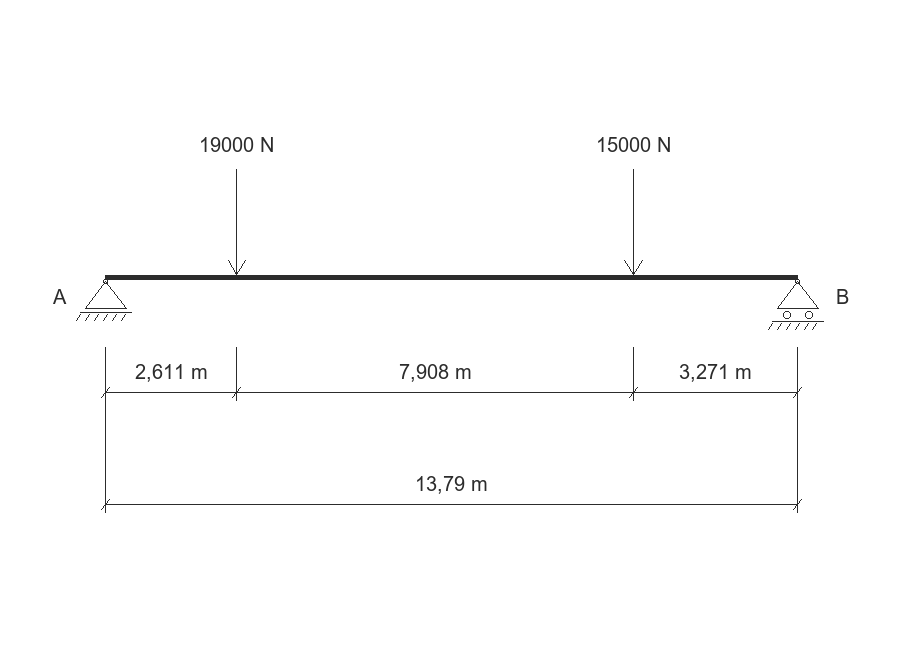pin_support: (76, 279, 132, 321)
point_load: (624, 169, 643, 275), (228, 169, 246, 275)
roller_support: (768, 279, 824, 330)
